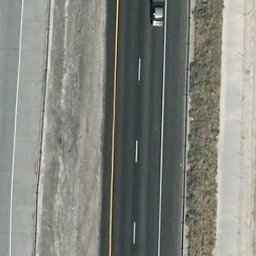car: (150, 1, 166, 27)
